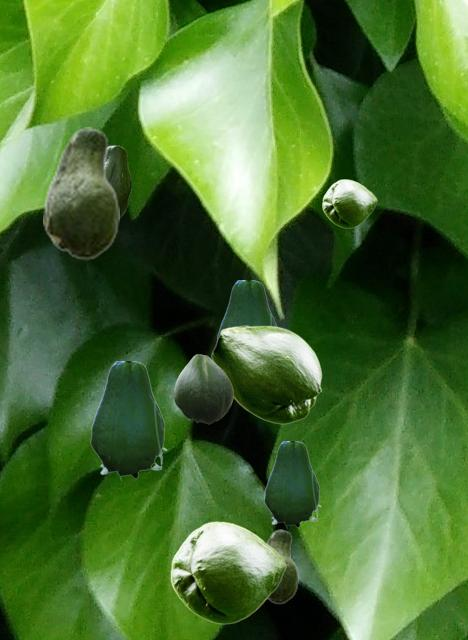sayote: (170, 521, 285, 623), (211, 325, 321, 423), (43, 127, 118, 259), (90, 361, 166, 480), (264, 441, 320, 528), (174, 354, 232, 423), (216, 280, 277, 338), (322, 179, 376, 227), (265, 529, 297, 603), (107, 145, 130, 218)
